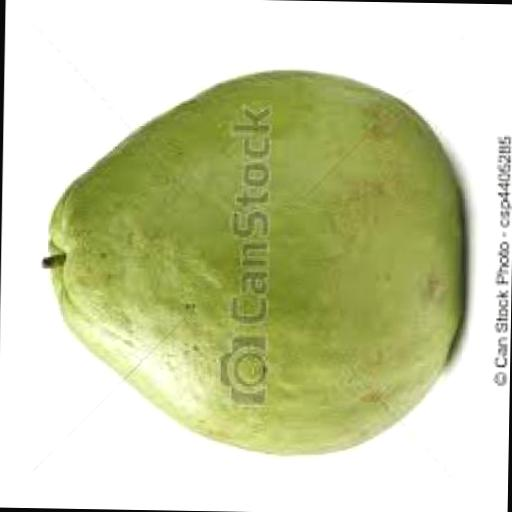biodegradable: (35, 71, 466, 462)
